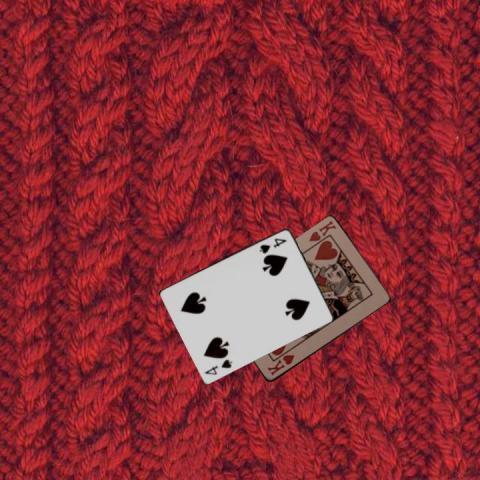4s: (202, 356, 234, 376), (257, 235, 288, 255)
Kh: (264, 352, 297, 378), (306, 218, 337, 243)
